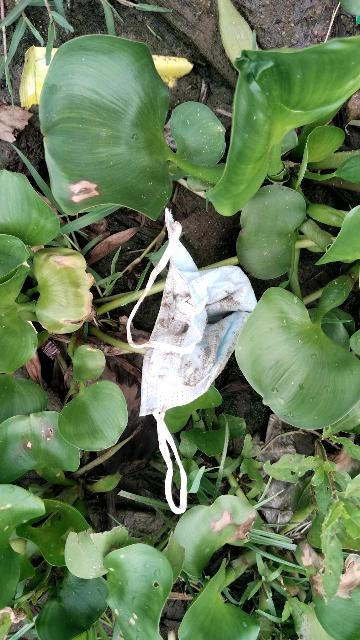mask: (104, 197, 258, 520)
